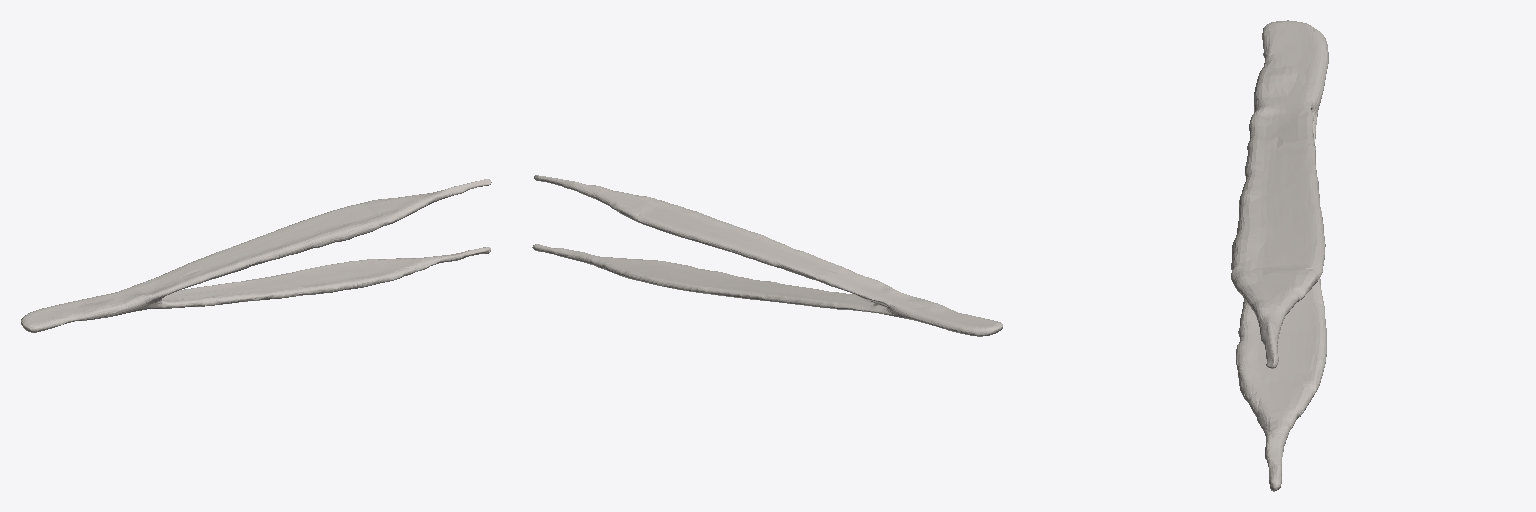
The robot description file, URDF, robot "Tooling_1":
<?xml version="1.0" encoding="utf-8"?>
<!-- This URDF was automatically created by SolidWorks to URDF Exporter! Originally created by Stephen Brawner (brawner@gmail.com)
     Commit Version: 1.6.0-4-g7f85cfe  Build Version: 1.6.7995.38578
     For more information, please see http://wiki.ros.org/sw_urdf_exporter -->
<robot
  name="Tooling_1">
  <link
    name="base_link">
    <inertial>
      <origin
        xyz="7.1276E-05 0.00039439 0.00019306"
        rpy="0 0 0" />
      <mass
        value="0.022848" />
      <inertia
        ixx="8.3565E-07"
        ixy="-1.3111E-07"
        ixz="-3.7688E-07"
        iyy="1.8828E-05"
        iyz="-2.9918E-08"
        izz="1.9326E-05" />
    </inertial>
    <visual>
      <origin
        xyz="0 0 0"
        rpy="0 0 0" />
      <geometry>
        <mesh
          filename="../meshes/base_link.STL" />
      </geometry>
      <material
        name="">
        <color
          rgba="0.77647 0.75686 0.73725 1" />
      </material>
    </visual>
    <collision>
      <origin
        xyz="0 0 0"
        rpy="0 0 0" />
      <geometry>
        <mesh
          filename="../meshes/base_link.STL" />
      </geometry>
    </collision>
  </link>
</robot>

--- What the picture shows (computed from the rendered views, not written in the file) ---
The picture shows the robot from 3 angles, left to right: view 1: azimuth 30°, elevation 25°; view 2: azimuth 150°, elevation 25°; view 3: azimuth 270°, elevation 25°; orthographic projection.
Model Tooling_1 with 1 links and 0 joints (none), rooted at base_link, posed every joint at zero.
Links seen in each view (by area): view 1: base_link; view 2: base_link; view 3: base_link.
Link boxes in pixels (<box>): base_link: <box>21,179,491,332</box>; base_link: <box>532,175,1002,336</box>; base_link: <box>1231,20,1328,491</box>.
Bounding box of the posed robot: 0.1227 × 0.0125 × 0.0193 m (x, y, z).
Meshes: 1 distinct files referenced, 1 mesh visuals loaded (1 binary STL).
